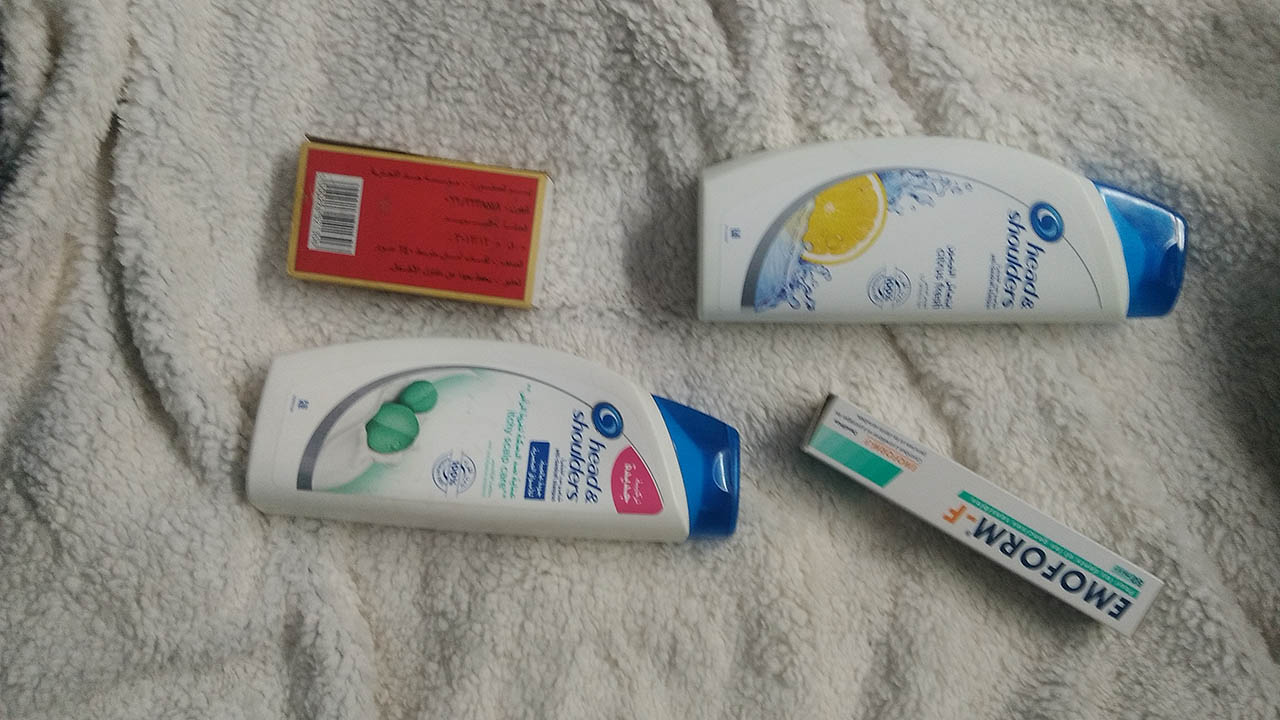Toothpaste-F 1.5$: (796, 388, 1182, 655)
match-sticks .90$: (274, 115, 563, 318)
shampoo-Lemon 3.5$: (670, 114, 1204, 368)
shampoo-green 4.5$: (248, 319, 748, 558)
